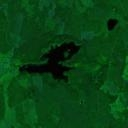alloviz: (19, 39, 81, 82), (105, 16, 119, 31)
